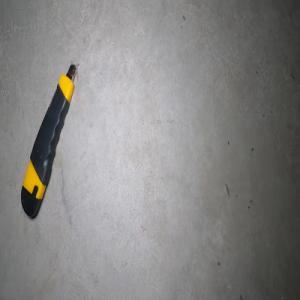Cutter: (19, 62, 77, 218)
